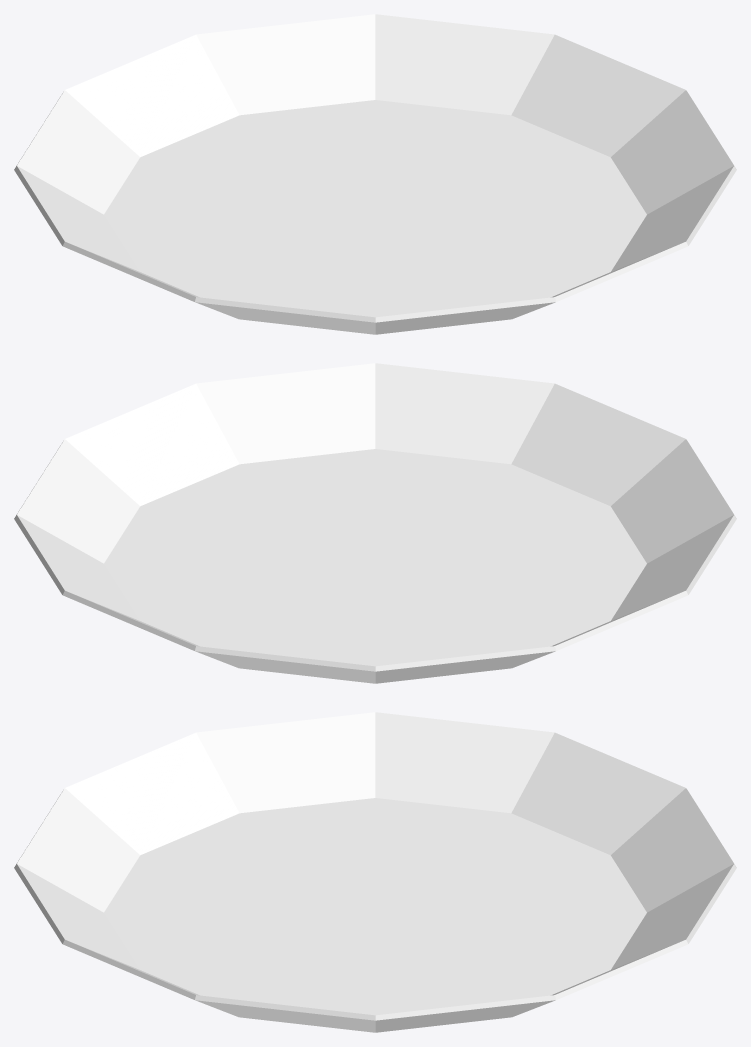
Rendered from Plate_01.fbx.
3 renders of one model, top to bottom at view 1: azimuth 30°, elevation 25°; view 2: azimuth 150°, elevation 25°; view 3: azimuth 270°, elevation 25°, orthographic.
Parts seen in each view (by area): view 1: Plate_01; view 2: Plate_01; view 3: Plate_01.
Boxes of the visible parts, <box> form: Plate_01: <box>14,14,736,334</box>; Plate_01: <box>14,363,736,683</box>; Plate_01: <box>14,712,736,1032</box>.
Bounding box in the file's own units: 27.04 × 2.21 × 27.04.
